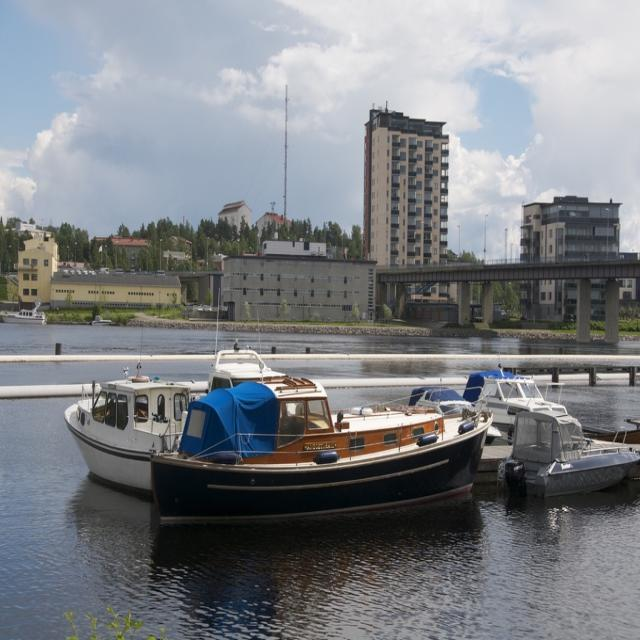Boat: (146, 368, 493, 536), (64, 338, 199, 492), (490, 387, 631, 501)
